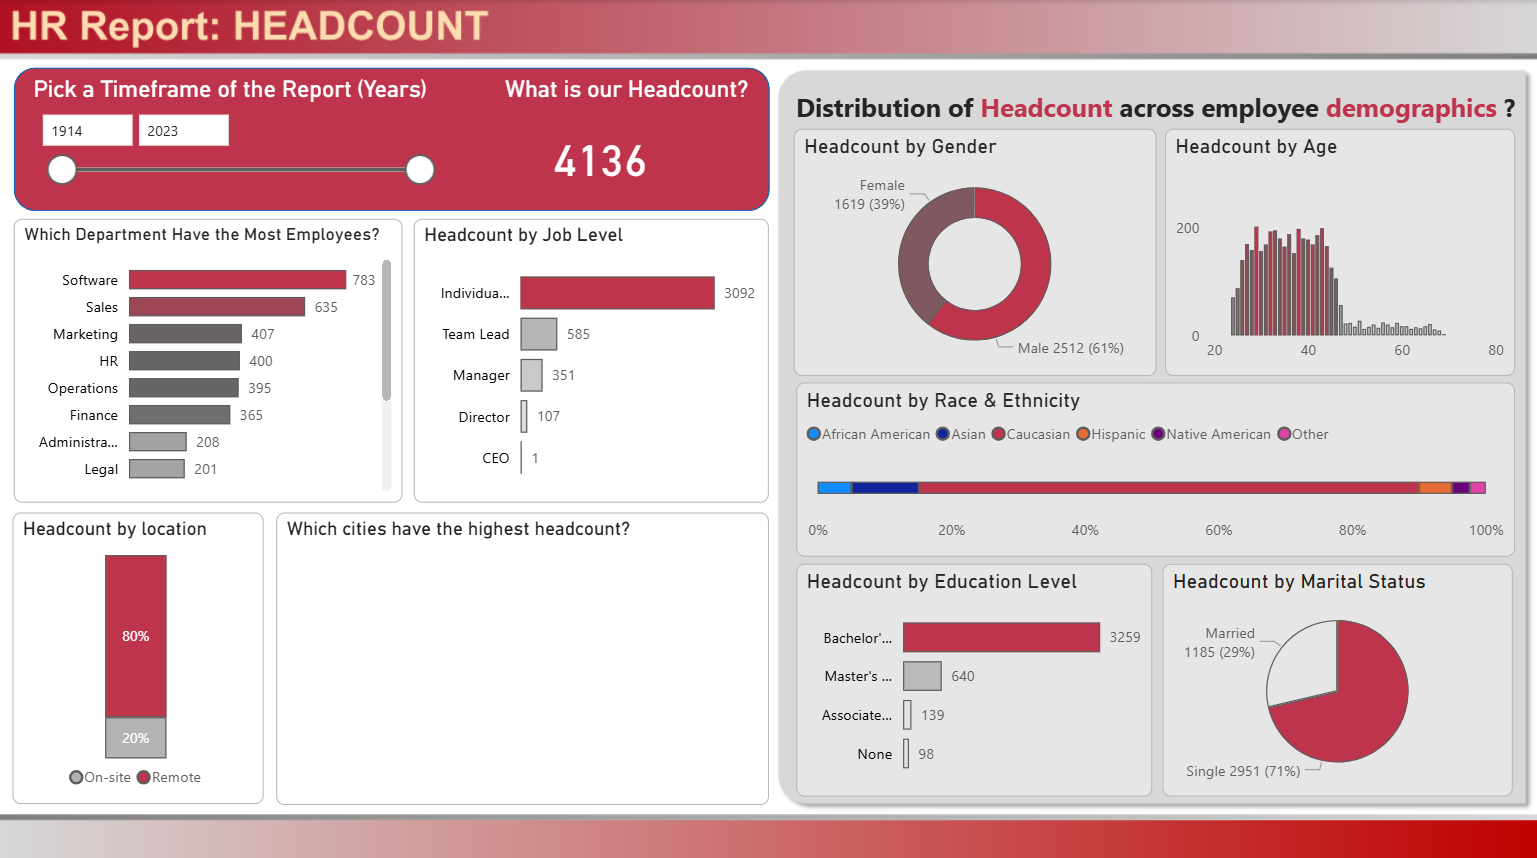

The dashboard page shown, as its layout file describes it:
{"tool":"powerbi","page":{"name":"Headcount","canvas":[1280,720],"ordinal":0},"visuals":[{"type":"shape","box":[11,56.3,628.5,119.4],"z":0},{"type":"card","title":"What is our Headcount?","fields":{"Values":["Table.Headcount"]},"box":[370.5,63.1,256.6,112.5],"z":1000},{"type":"slicer","title":"Pick a Timeframe of the Report (Years)","fields":{"Values":["Dates_dim.Year"]},"box":[23.3,63.1,347.2,112.5],"z":2000},{"type":"clusteredBarChart","title":"Which Department Have the Most Employees?","fields":{"Category":["people_fact.department"],"Y":["Table.Headcount"]},"box":[11.4,181.9,323.2,235.9],"z":3000},{"type":"clusteredBarChart","title":"Headcount by Job Level","fields":{"Y":["Table.Headcount"],"Category":["people_fact.job_level"]},"box":[344,181.9,295.2,235.9],"z":4000},{"type":"hundredPercentStackedColumnChart","fields":{"Y":["Table.Headcount"],"Series":["people_dim.location"]},"box":[10.7,425.8,209.1,242.6],"z":5000},{"type":"azureMap","title":"Which cities have the highest headcount?","fields":{"Category":["people_dim.location_city"],"Size":["Table.Headcount"]},"box":[230.1,425.9,409.4,242.8],"z":6000},{"type":"donutChart","title":"Headcount by Gender","fields":{"Category":["people_dim.gender"],"Y":["Table.Headcount"]},"box":[659.8,106.8,301.3,206],"z":7000},{"type":"clusteredColumnChart","title":"Headcount by Age","fields":{"Y":["Table.Headcount"],"Category":["people_dim.birth_date"]},"box":[968.8,106.8,291.1,206],"z":8000},{"type":"hundredPercentStackedBarChart","title":"Headcount by Race & Ethnicity","fields":{"Y":["Table.Headcount"],"Series":["people_dim.race"]},"box":[662.4,317.8,597.5,144.9],"z":9000},{"type":"clusteredBarChart","title":"Headcount by Education Level","fields":{"Category":["people_dim.education"],"Y":["Table.Headcount"]},"box":[662.4,469.1,296.2,193.2],"z":10000},{"type":"pieChart","title":"Headcount by Marital Status","fields":{"Category":["people_dim.marital_status"],"Y":["Table.Headcount"]},"box":[966.2,469.1,291.1,193.2],"z":11000},{"type":"textbox","box":[657.3,69.9,617.9,48.3],"z":12000}]}

Visuals, with their boxes in screenshot pixels (x1, y1, x2, y2), scaled from the page's 1280x720 canvas onto the 1537x858 screenshot:
shape: (13, 67, 768, 209)
"What is our Headcount?" card: (445, 75, 753, 209)
"Pick a Timeframe of the Report (Years)" slicer: (28, 75, 445, 209)
"Which Department Have the Most Employees?" clusteredBarChart: (14, 217, 402, 498)
"Headcount by Job Level" clusteredBarChart: (413, 217, 768, 498)
hundredPercentStackedColumnChart - Table.Headcount x people_dim.location: (13, 507, 264, 797)
"Which cities have the highest headcount?" azureMap: (276, 508, 768, 797)
"Headcount by Gender" donutChart: (792, 127, 1154, 373)
"Headcount by Age" clusteredColumnChart: (1163, 127, 1513, 373)
"Headcount by Race & Ethnicity" hundredPercentStackedBarChart: (795, 379, 1513, 551)
"Headcount by Education Level" clusteredBarChart: (795, 559, 1151, 789)
"Headcount by Marital Status" pieChart: (1160, 559, 1510, 789)
textbox: (789, 83, 1531, 141)
